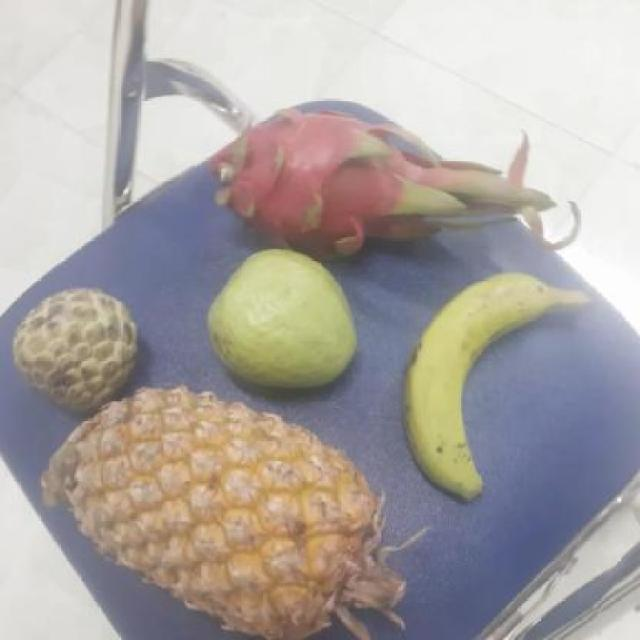banana: (406, 274, 576, 498)
dragon fruit: (212, 100, 442, 255)
guava: (208, 250, 362, 388)
pineapple: (58, 388, 400, 635)
sugar apple: (8, 290, 152, 415)
